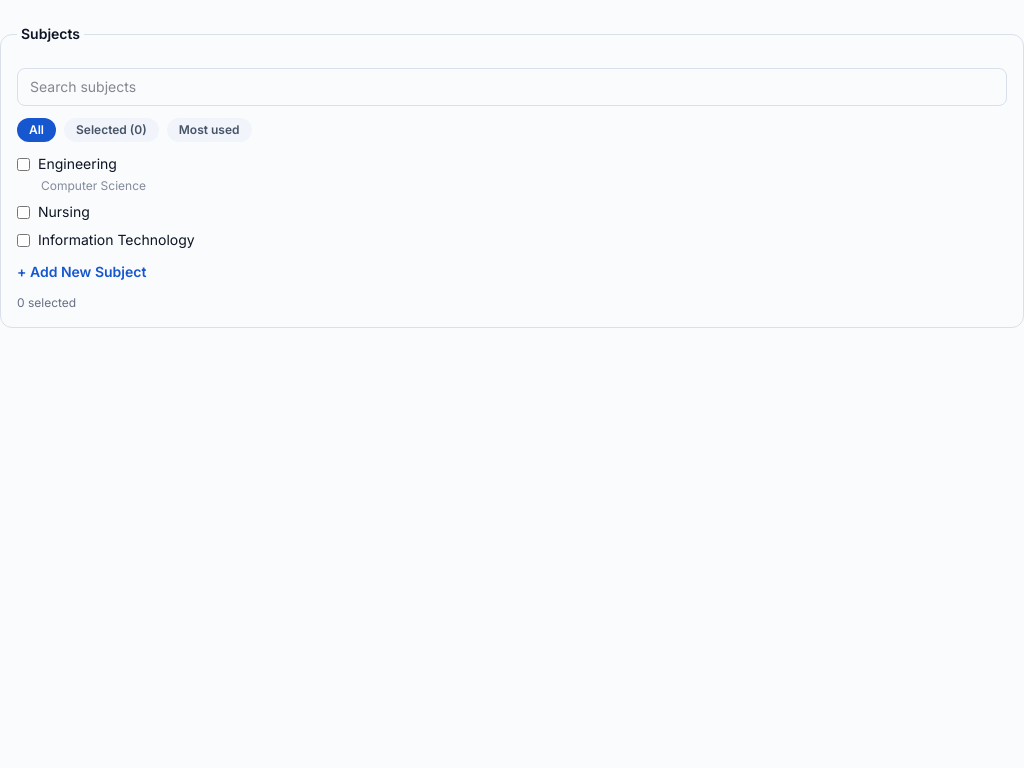
country taxonomy picker › selects an existing subject instead of creating a duplicate
The image size is (1024, 768).
Click the button "+ Add New Subject" at (82, 272), box [17,262,146,282]
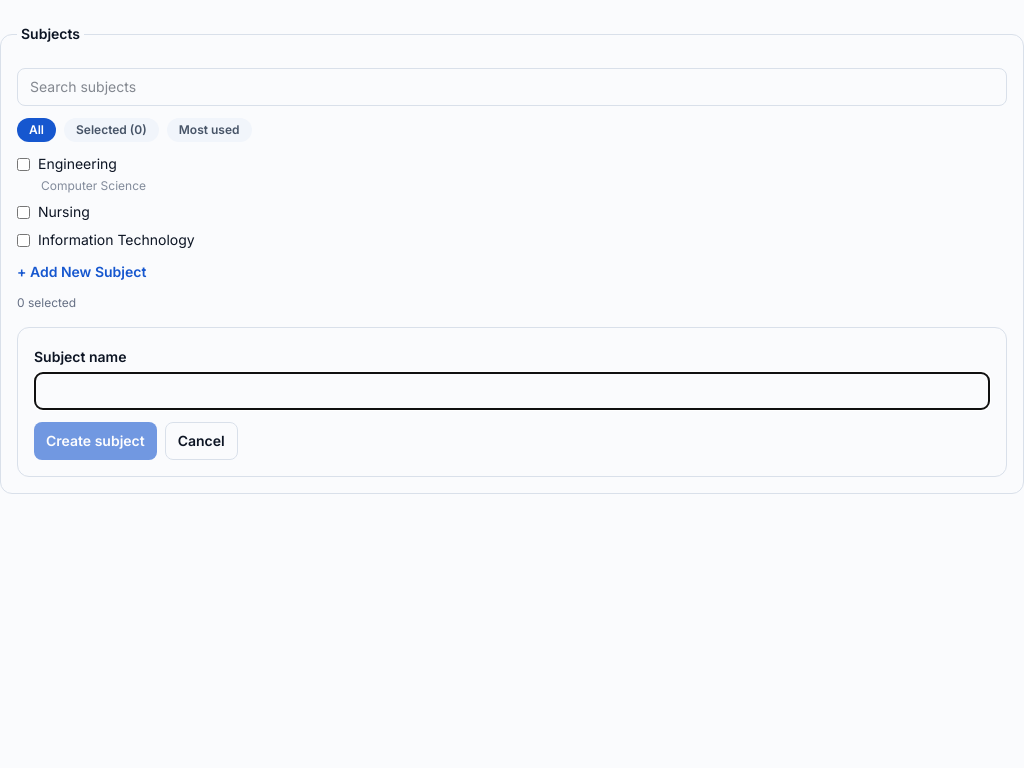
Type "  engineering " into the field labelled "Subject name" at (512, 391), box [34,372,990,410]
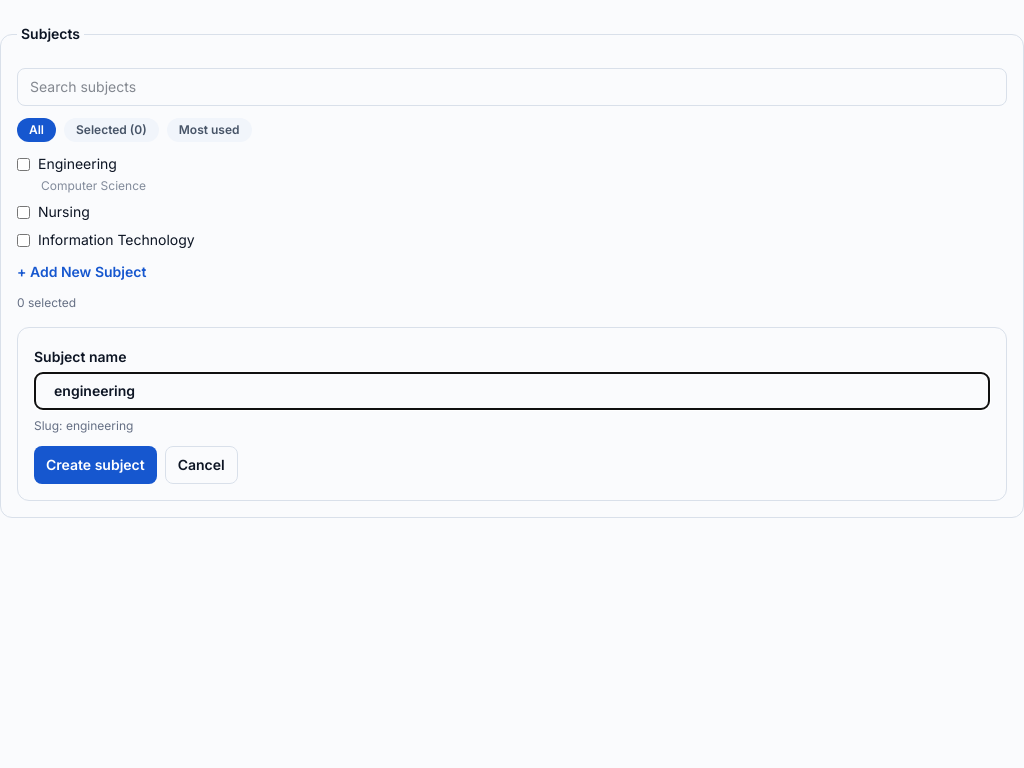
Click the button "Create subject" at (95, 465), box [34,446,157,484]
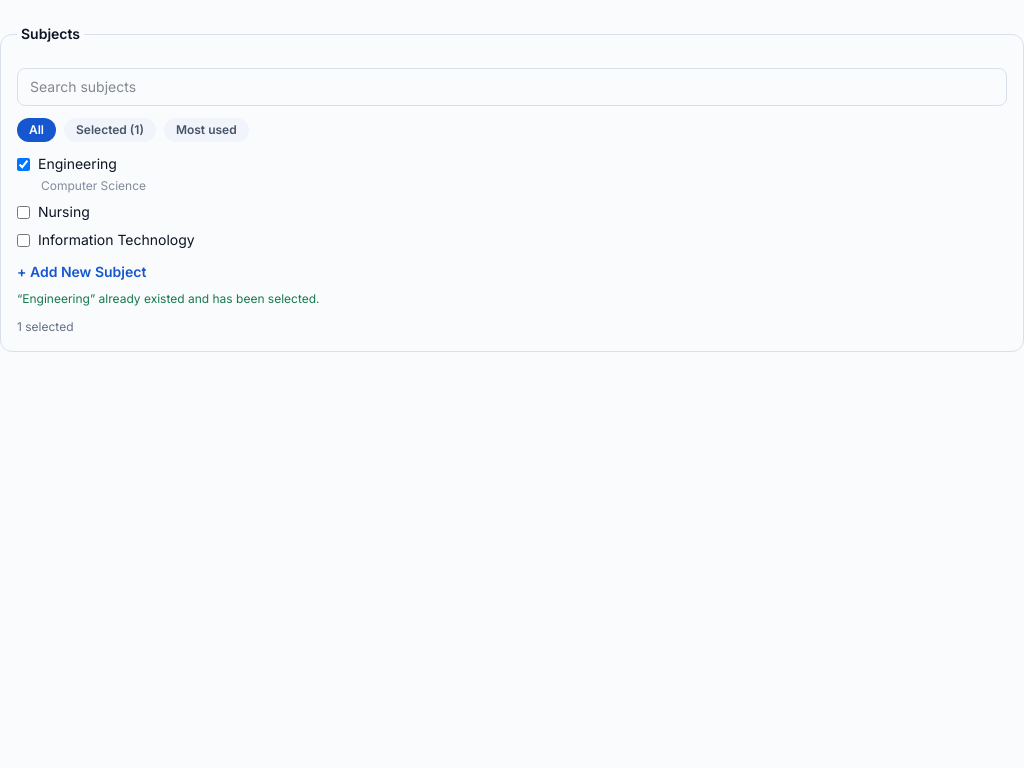
Expected: the checkbox labelled "Engineering" is checked, [17,158,30,170]
Expected: the message shows "already existed", [17,291,320,306]
